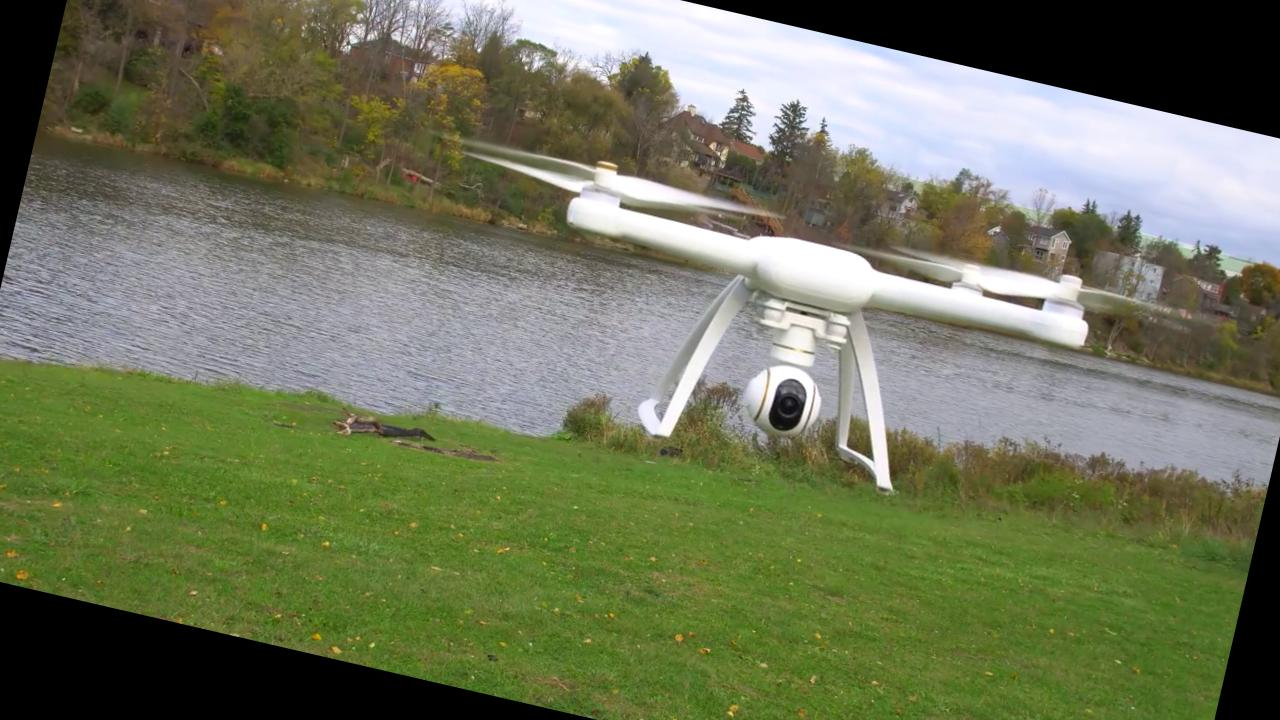drone: (421, 109, 1168, 411)
